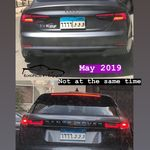carpl: (60, 20, 86, 28), (59, 133, 88, 140)
